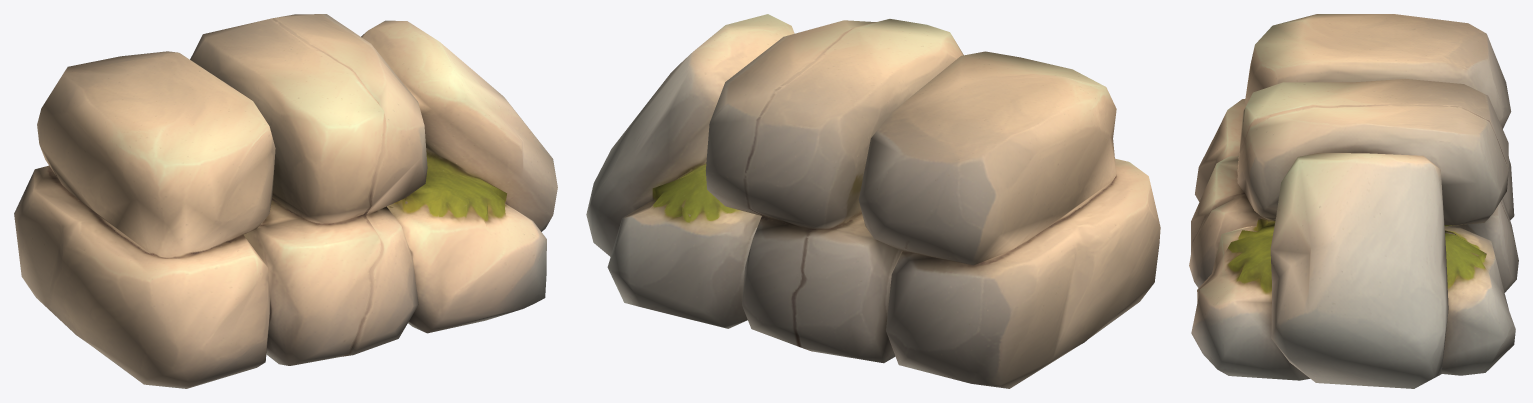
Rendered from stoneblocks.glb.
3 views of the same model, side by side, from view 1: azimuth 30°, elevation 25°; view 2: azimuth 150°, elevation 25°; view 3: azimuth 270°, elevation 25° (orthographic). The views are drawn at different scales.
Parts seen in each view (by area): view 1: geometry_0.001; view 2: geometry_0.001; view 3: geometry_0.001.
Part boxes in pixels (x1,y1,x2,y2): geometry_0.001: [14, 14, 557, 388]; geometry_0.001: [586, 14, 1160, 388]; geometry_0.001: [1189, 14, 1518, 388].
Bounding box in the file's own units: 1.99 × 0.9482 × 1.34.
1 material, 1 textured.
